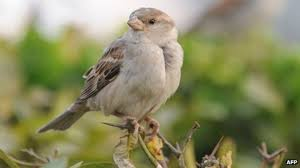hsparrow: (32, 5, 189, 140)
